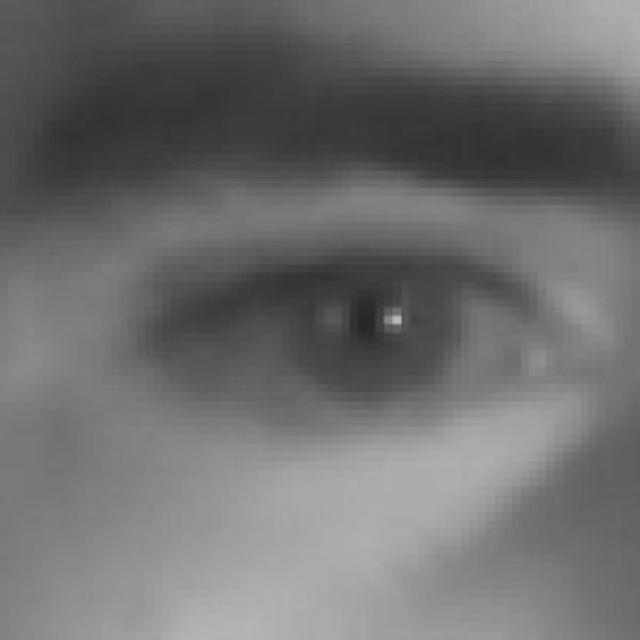awake: (157, 228, 568, 443)
